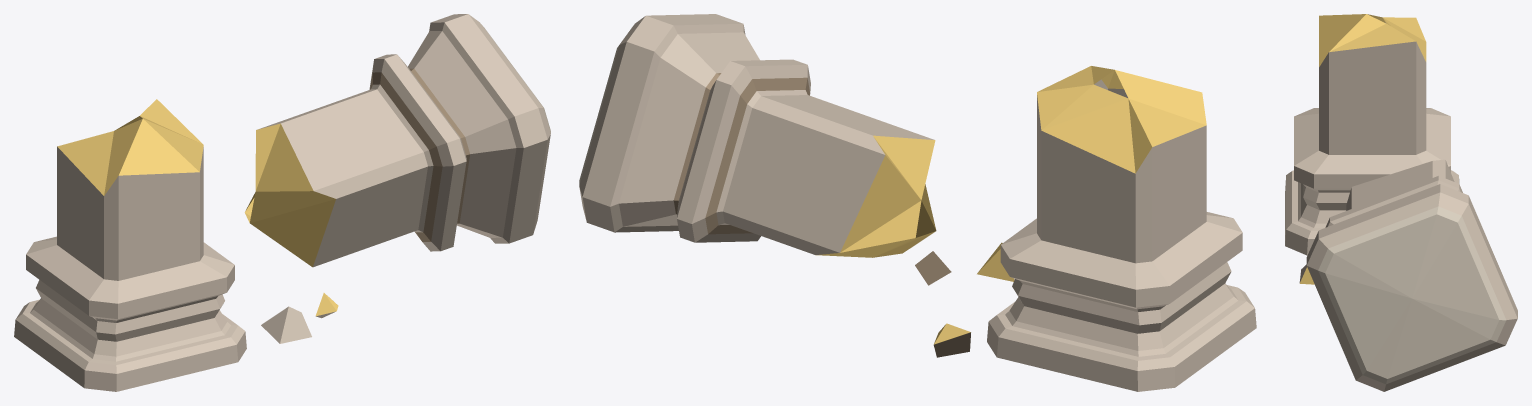
The model's file is Pilar_Roto.glb.
3 renders of one model, left to right at view 1: azimuth 30°, elevation 25°; view 2: azimuth 150°, elevation 25°; view 3: azimuth 270°, elevation 25°, orthographic. The views are drawn at different scales.
Visible parts, largest first — view 1: Pilar_Roto; view 2: Pilar_Roto; view 3: Pilar_Roto.
Part boxes in pixels (x1,y1,x2,y2): Pilar_Roto: (14,14,550,391); Pilar_Roto: (579,14,1256,391); Pilar_Roto: (1285,14,1517,391).
Bounding box in the file's own units: 8.53 × 3.92 × 3.79.
